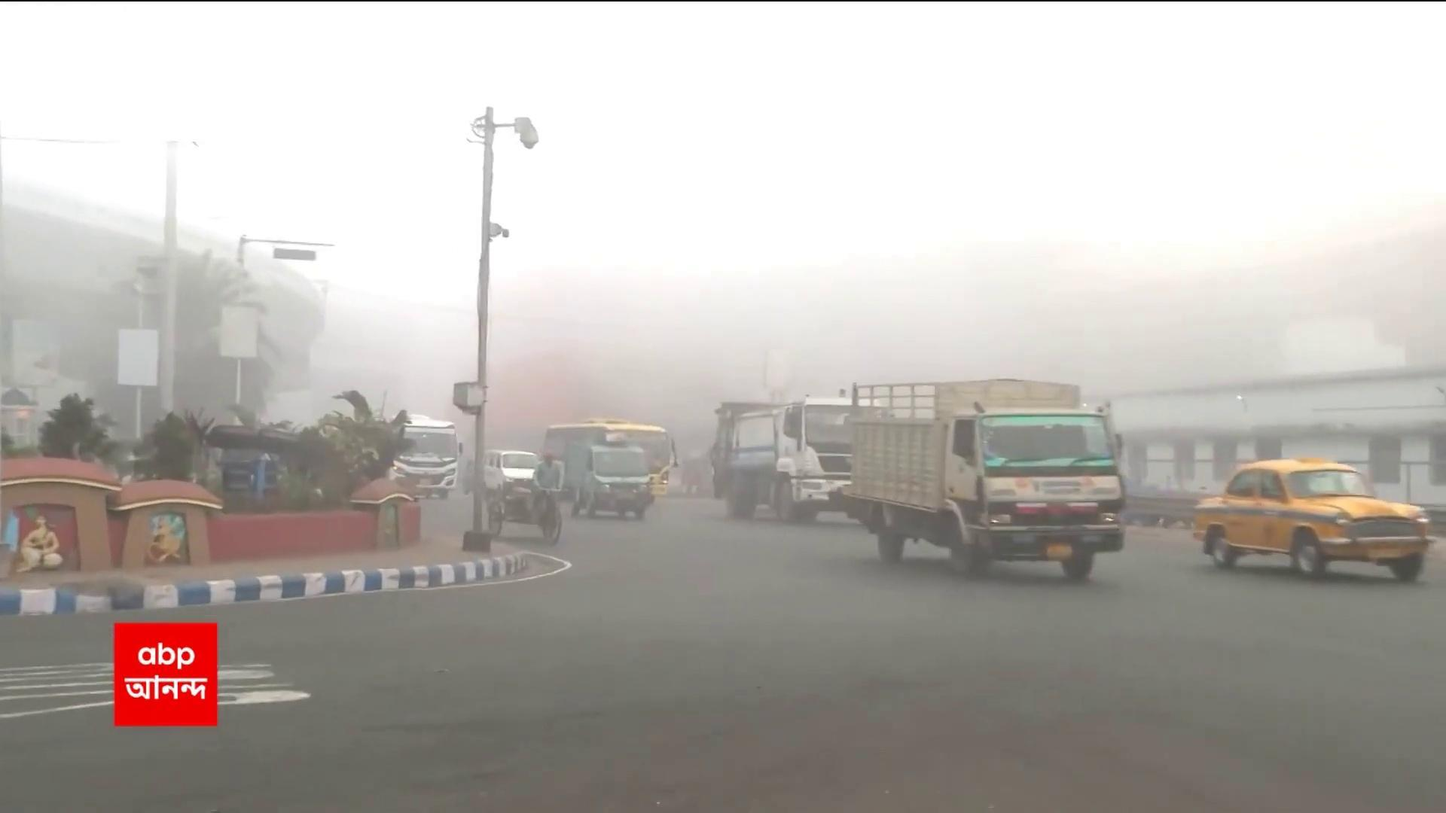Car: (1189, 456, 1437, 595)
Truck: (845, 375, 1130, 582), (724, 394, 892, 525), (555, 430, 660, 525)
